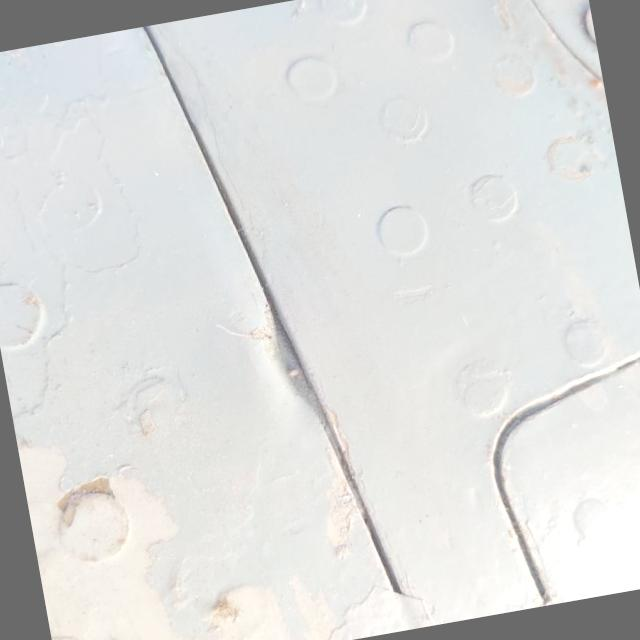dent: (228, 262, 346, 428)
